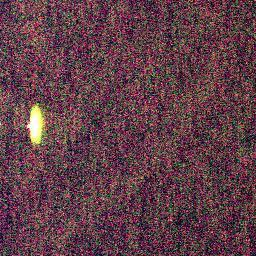Ship: (25, 104, 47, 144)
